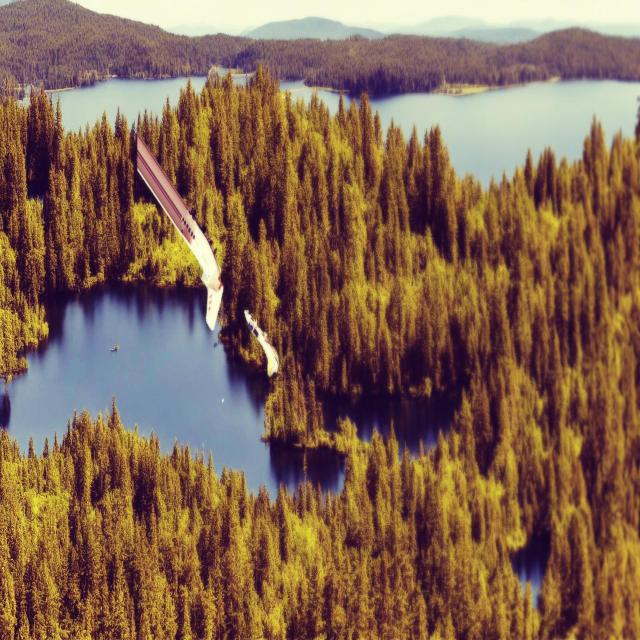airplane: (135, 130, 224, 332), (243, 308, 280, 378)
